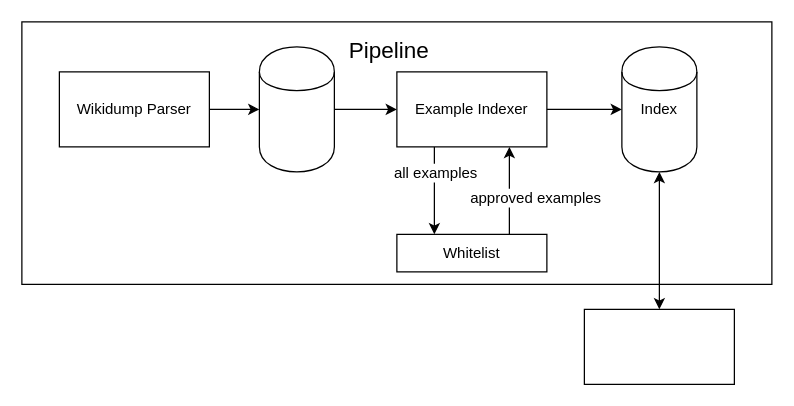
Some shapes in this 794 by 406 pixel diagram are drawn without their labels. The shapes that lost their labels are listed below. From the top down, each one's box as (x1, y1, x2, y2) in pixels, then its label:
(258, 46, 334, 172): SQL Database
(583, 308, 734, 384): Example Search
